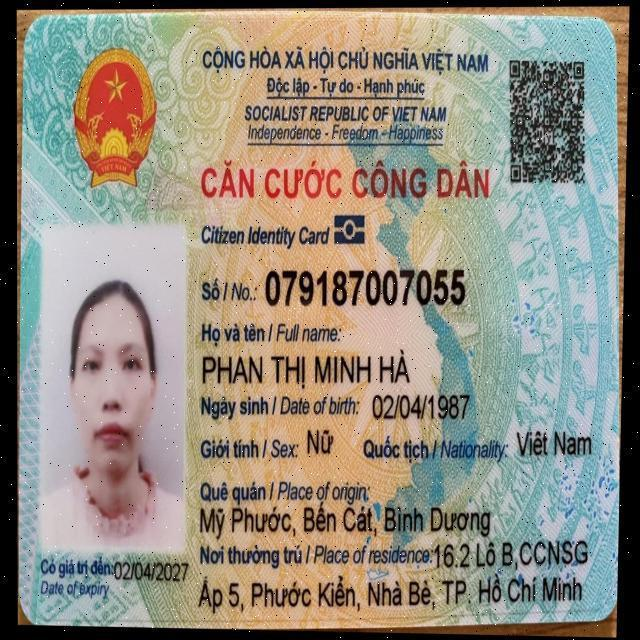current_place: (195, 568, 587, 614), (435, 533, 595, 574)
dob: (369, 392, 475, 420)
expire_date: (111, 557, 190, 587)
gender: (303, 422, 337, 456)
id: (260, 269, 466, 307)
name: (196, 347, 415, 390)
nationality: (514, 429, 595, 460)
origin_place: (198, 504, 494, 541)
